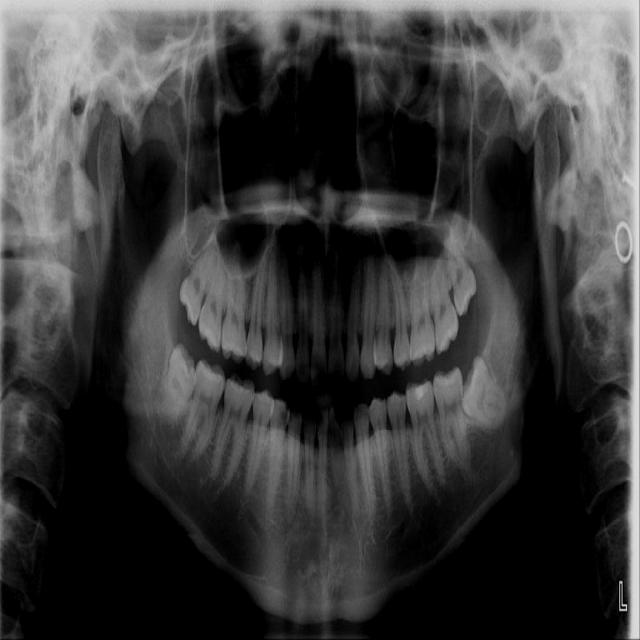Filling: (415, 385, 425, 399)
impacted tooth: (460, 358, 508, 426), (152, 347, 194, 422)
